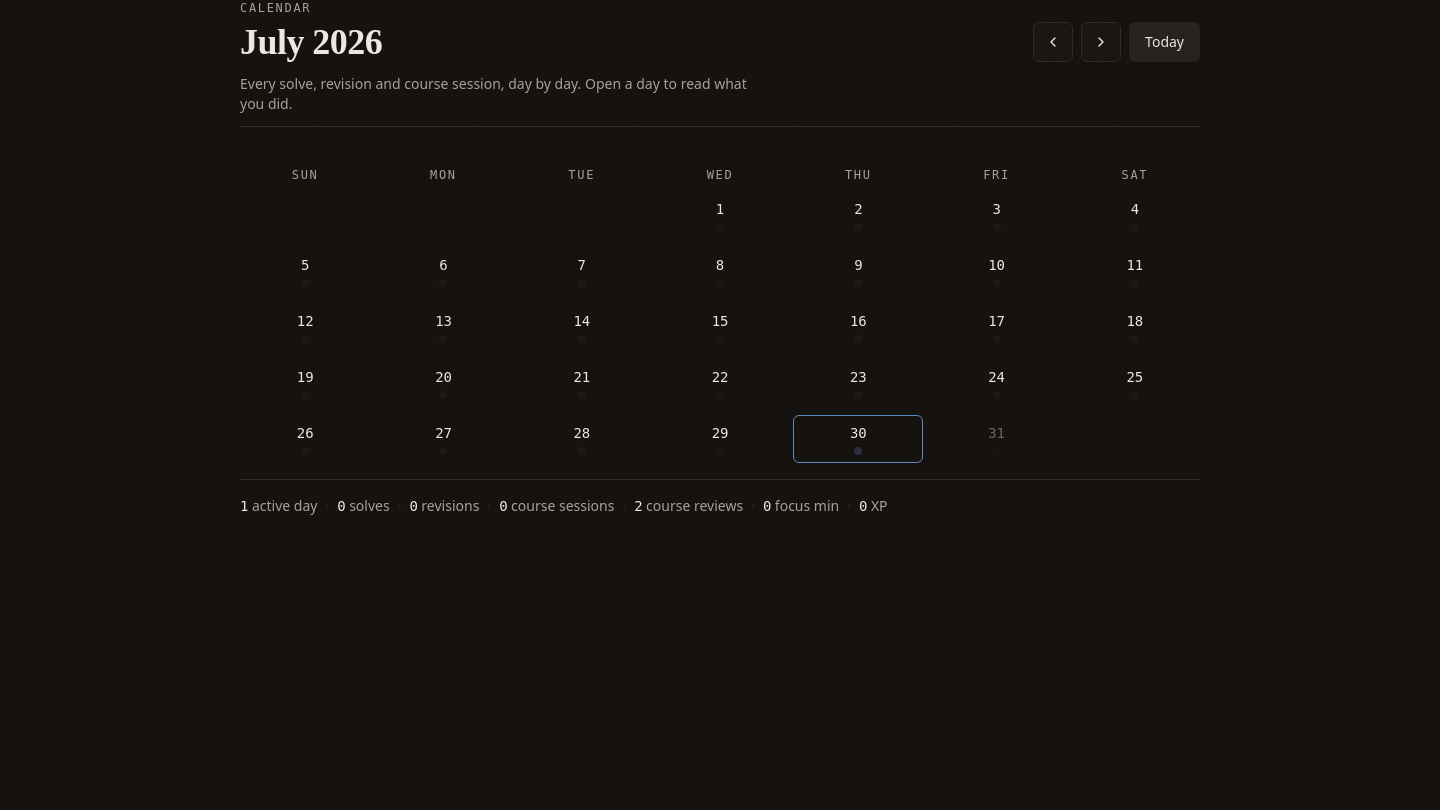
CalendarPage › graded course reviews are counted as reviews, not as course sessions
This screenshot has width=1440, height=810.
Check: the text "course sessions" reads "0 course sessions", box [499,496,614,516]
Check: the text "course reviews" reads "2 course reviews", box [634,496,743,516]
Click the button named "July 30, 2026 — 2 activities".
click(858, 439)  # box [793,415,923,463]
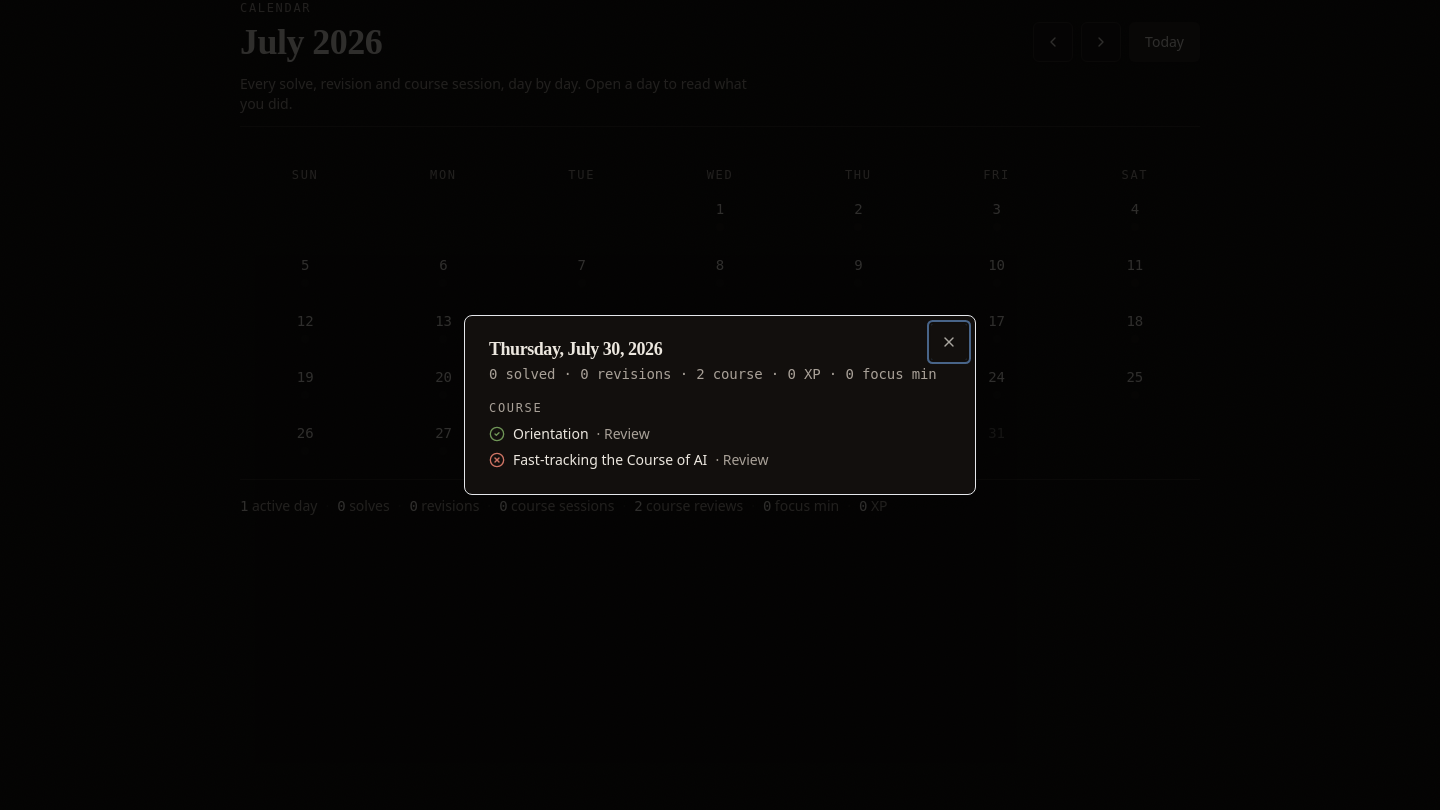
Check: the text "· Review" is shown 2 times, box [597,424,650,444]; [715,450,768,470]
